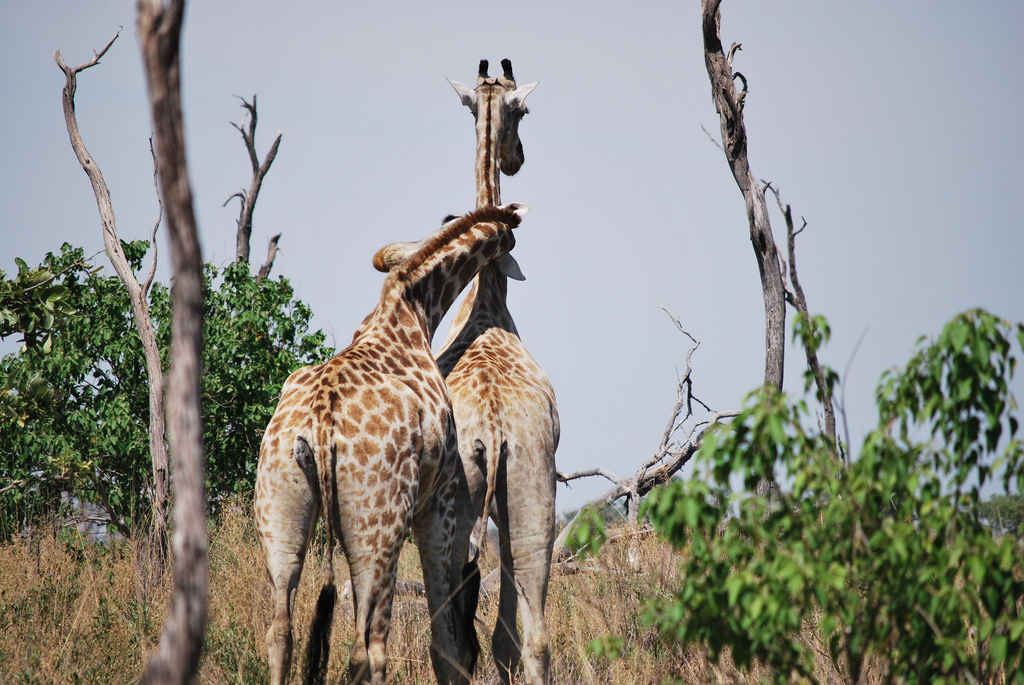giraffe: (242, 180, 519, 654), (448, 45, 590, 668)
